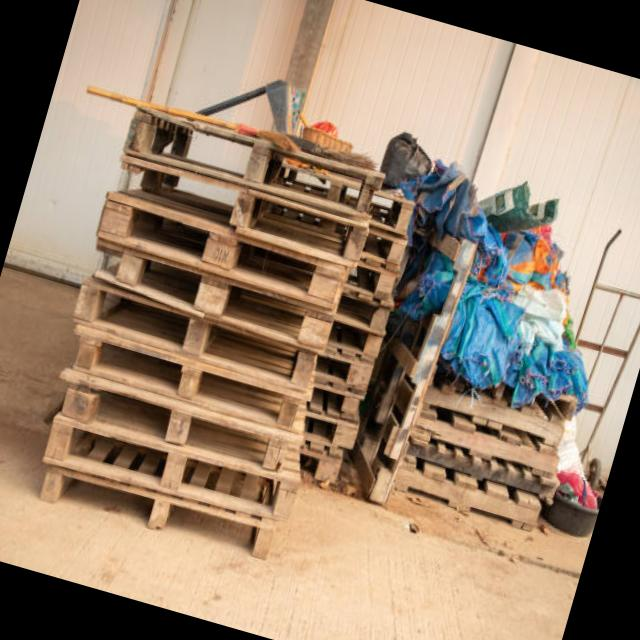Wooden-Pallets: (82, 181, 363, 322), (58, 273, 330, 401), (117, 100, 382, 228), (36, 407, 306, 532), (102, 150, 371, 275), (77, 234, 341, 360), (40, 362, 304, 480), (22, 454, 282, 567), (59, 322, 311, 438), (392, 456, 552, 535)
